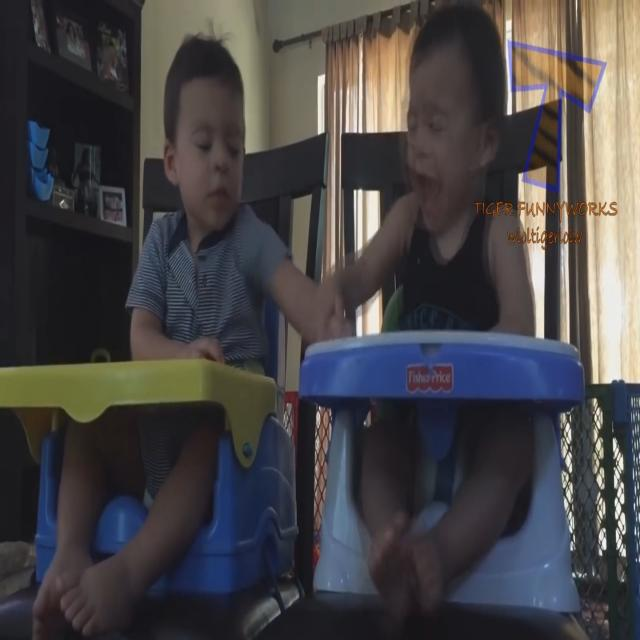dangerous: (372, 11, 541, 356)
safe: (91, 26, 266, 377)
